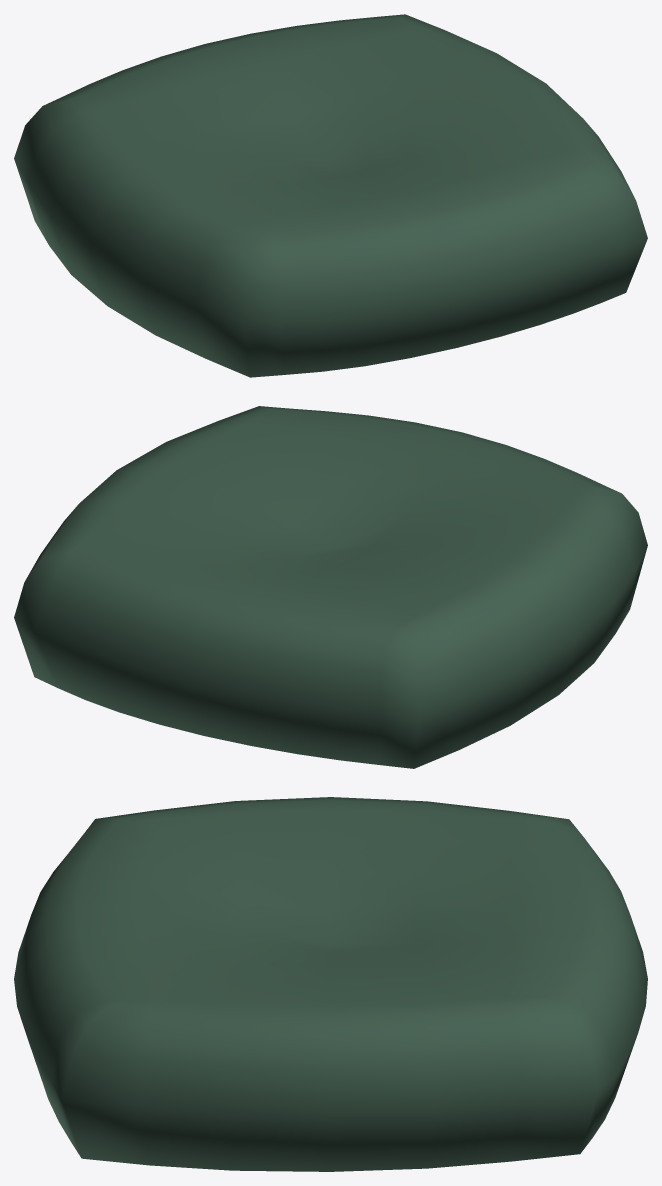
File: fbx_pillow_01.fbx
The picture shows the model from 3 angles, top to bottom: view 1: azimuth 30°, elevation 25°; view 2: azimuth 150°, elevation 25°; view 3: azimuth 270°, elevation 25°; orthographic projection. The views are drawn at different scales.
Parts seen in each view (by area): view 1: Cube.004; view 2: Cube.004; view 3: Cube.004.
Boxes of the visible parts, box(x1,y1,x2,y2) form: Cube.004: box(14, 14, 647, 377); Cube.004: box(14, 406, 647, 768); Cube.004: box(14, 797, 647, 1171).
Size of the model in its own units: 2.02 by 0.5224 by 2.03.
